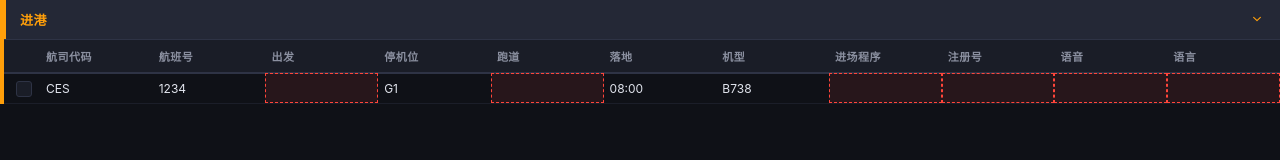
Test: FlightTable — Flight # dropdown includes the recorded-callsign library › offers recorded library numbers beyond the airport schedule
What coordinates should you click on to do the following:
click the cell "1234"
I would click on:
 (209, 88)
Its box is [153, 73, 265, 103].
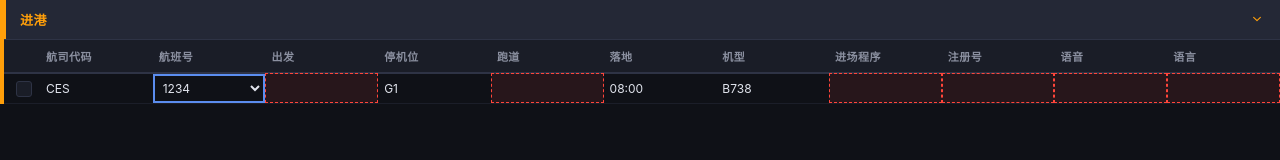
Expected: the dropdown with class "cell-widget" is shown, [153, 74, 265, 102]
